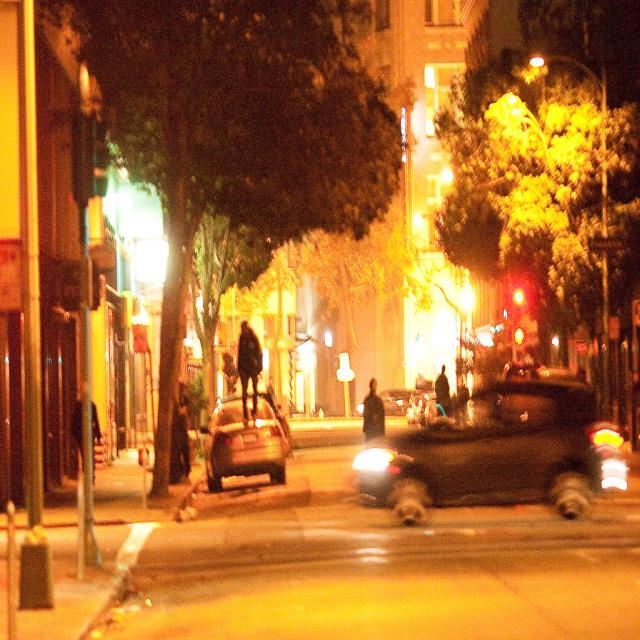no_fire: (67, 54, 624, 629)
